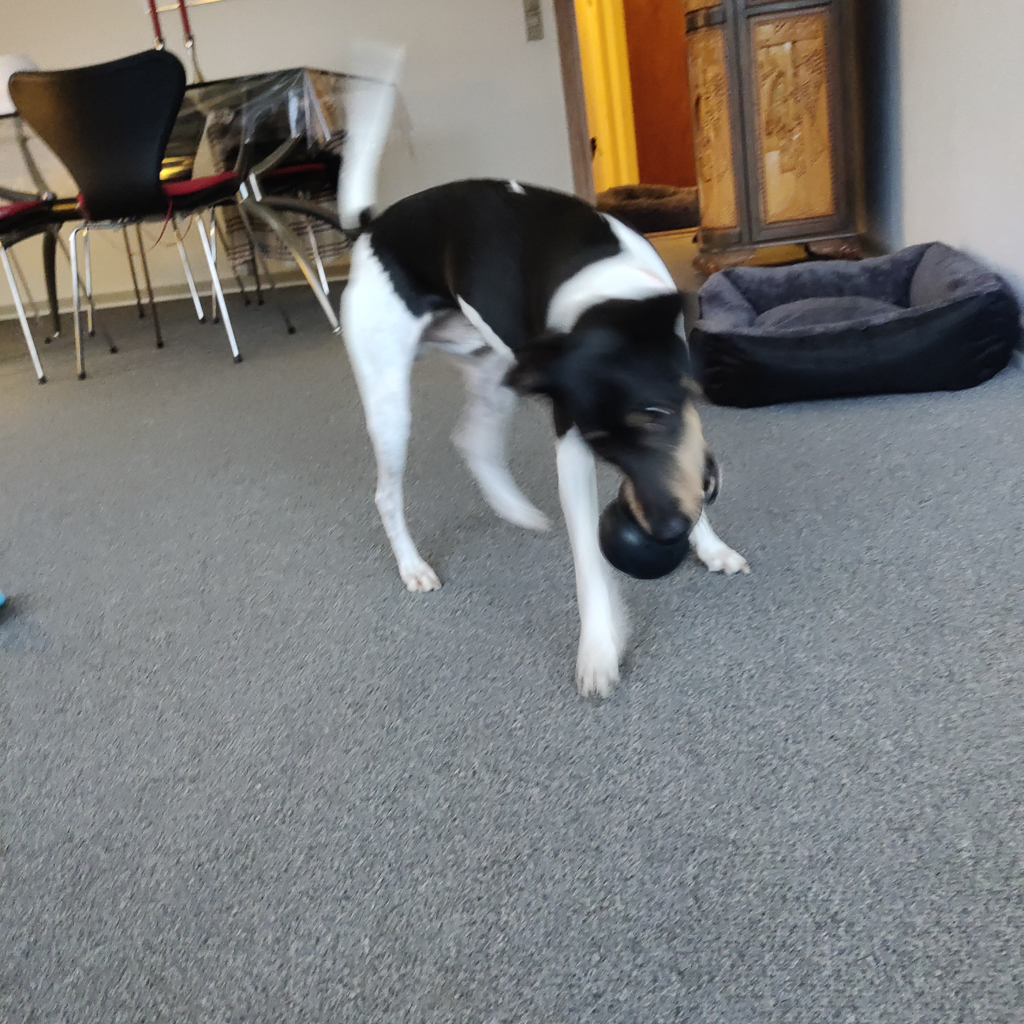Dog: (281, 19, 779, 717)
